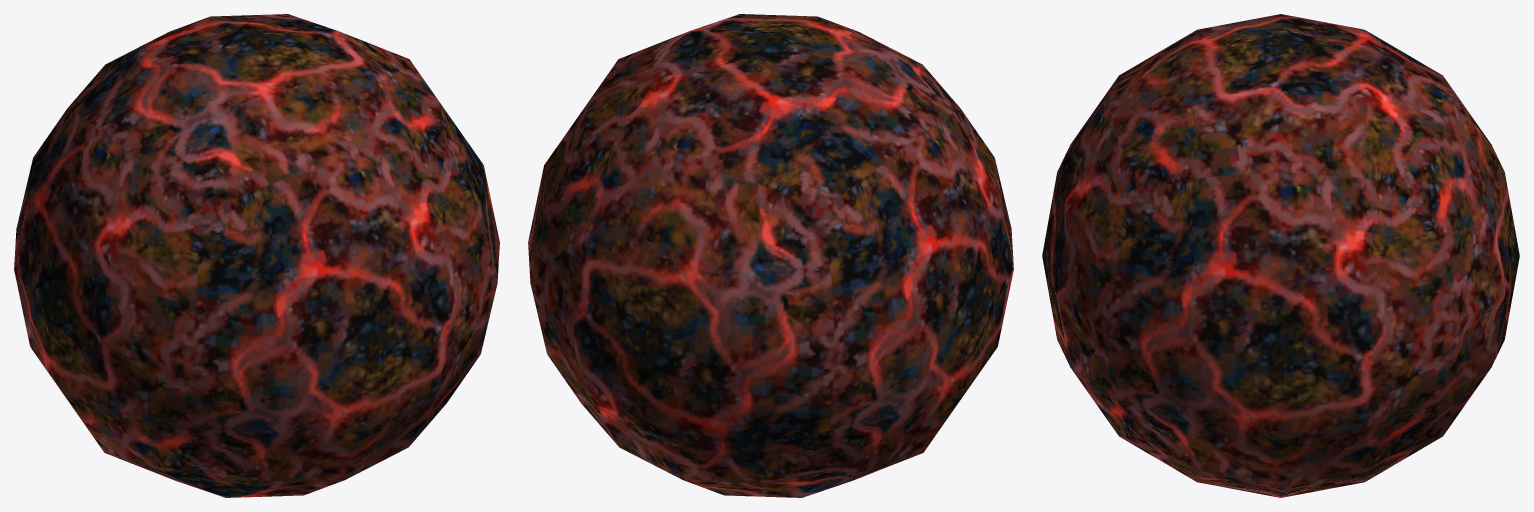
File: cef_thermal_detonator_grenade.fbx
The picture shows the model from 3 angles, left to right: view 1: azimuth 30°, elevation 25°; view 2: azimuth 150°, elevation 25°; view 3: azimuth 270°, elevation 25°; orthographic projection.
Parts seen in each view (by area): view 1: mesh_node; view 2: mesh_node; view 3: mesh_node.
Boxes of the visible parts, box(x1,y1,x2,y2) form: mesh_node: box(14, 14, 499, 497); mesh_node: box(528, 14, 1013, 497); mesh_node: box(1042, 14, 1519, 497).
Bounding box in the file's own units: 0.8818 × 0.8818 × 0.8818.
